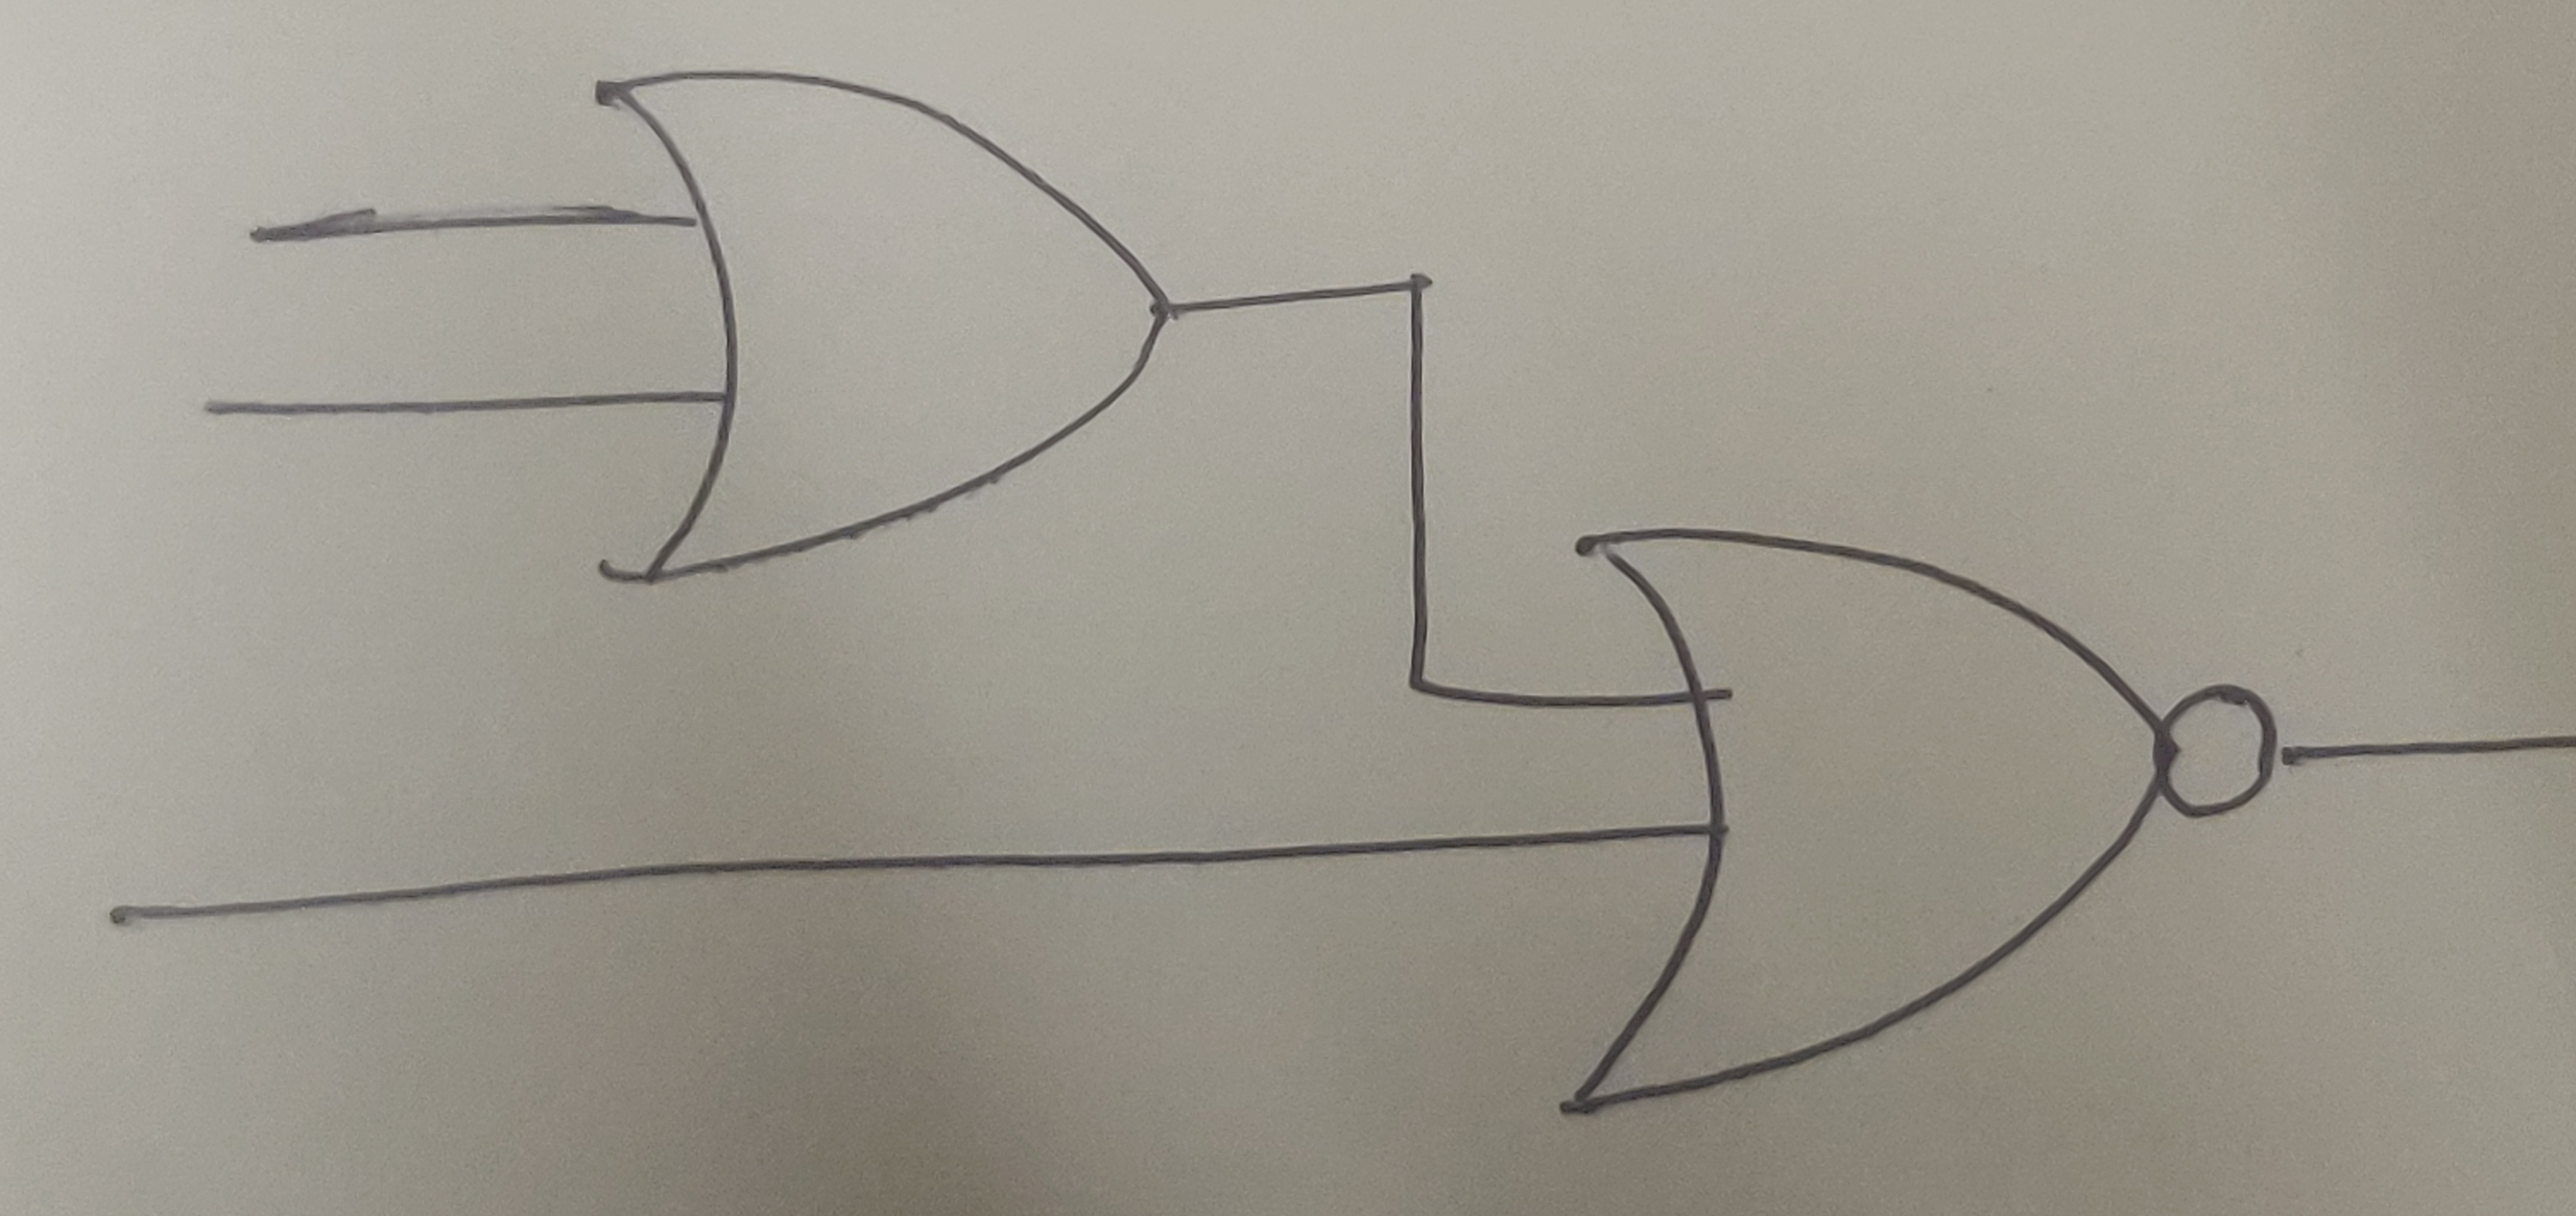not: (2152, 684, 2287, 822)
or: (1561, 526, 2175, 1124), (585, 66, 1170, 588)
